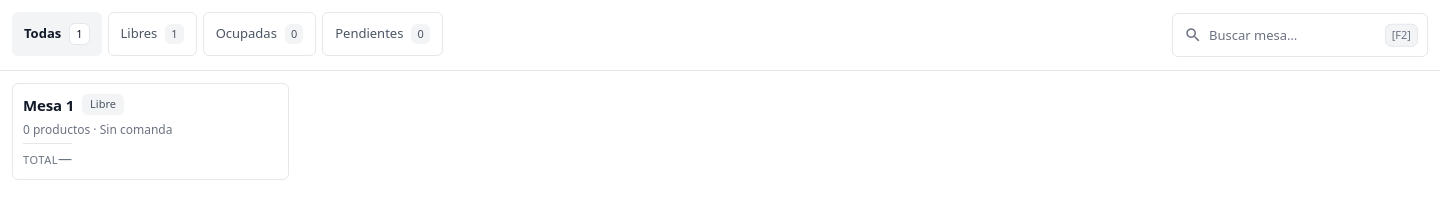
Scenario: PosTablesPanelComponent › el filtro de ocupación ya existente sigue funcionando sin cambios en "Mesas"
Check: the button "Libres 1" is shown, box [108, 12, 197, 56]
Check: the button "Pendientes 0" is shown, box [322, 12, 443, 56]
Click the button "Ocupadas 0" at (259, 34), box [203, 12, 316, 56]
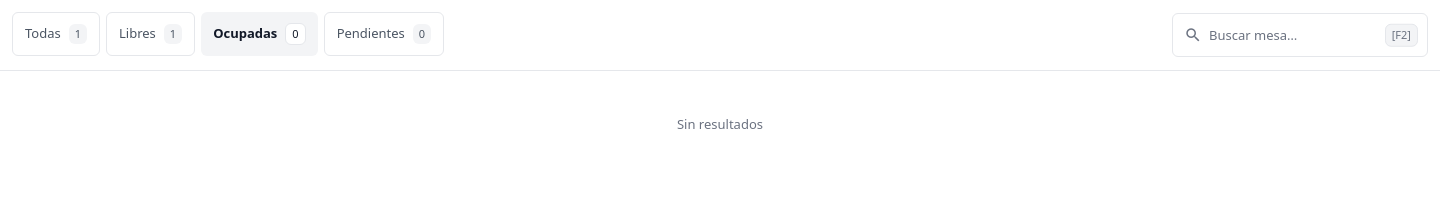
Check: the text "Mesa 1" is gone
